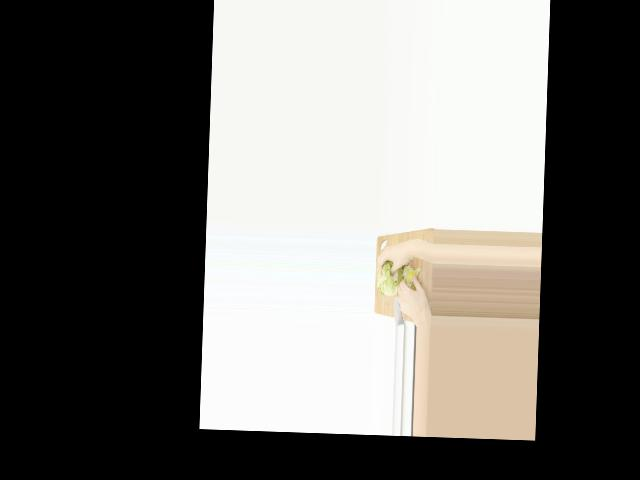lettuce: (377, 262, 401, 296)
